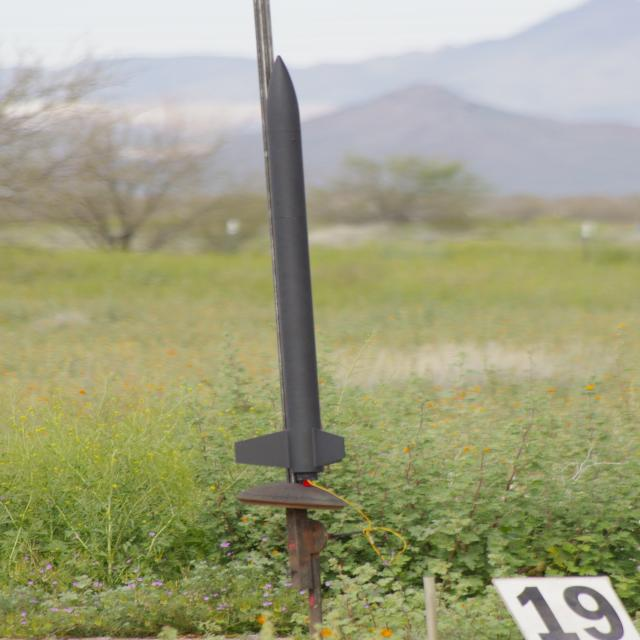Rocket: (233, 52, 354, 484)
